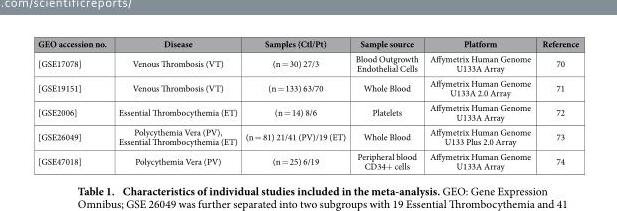table: (37, 37, 578, 171)
table column: (111, 37, 240, 171), (423, 37, 535, 171), (240, 37, 349, 171), (37, 37, 111, 171), (349, 37, 423, 171), (535, 37, 578, 171)
table column header: (37, 37, 578, 50)
table row: (37, 50, 578, 75), (37, 99, 578, 124), (37, 75, 578, 99), (37, 124, 578, 148), (37, 148, 578, 171), (37, 37, 578, 50)
